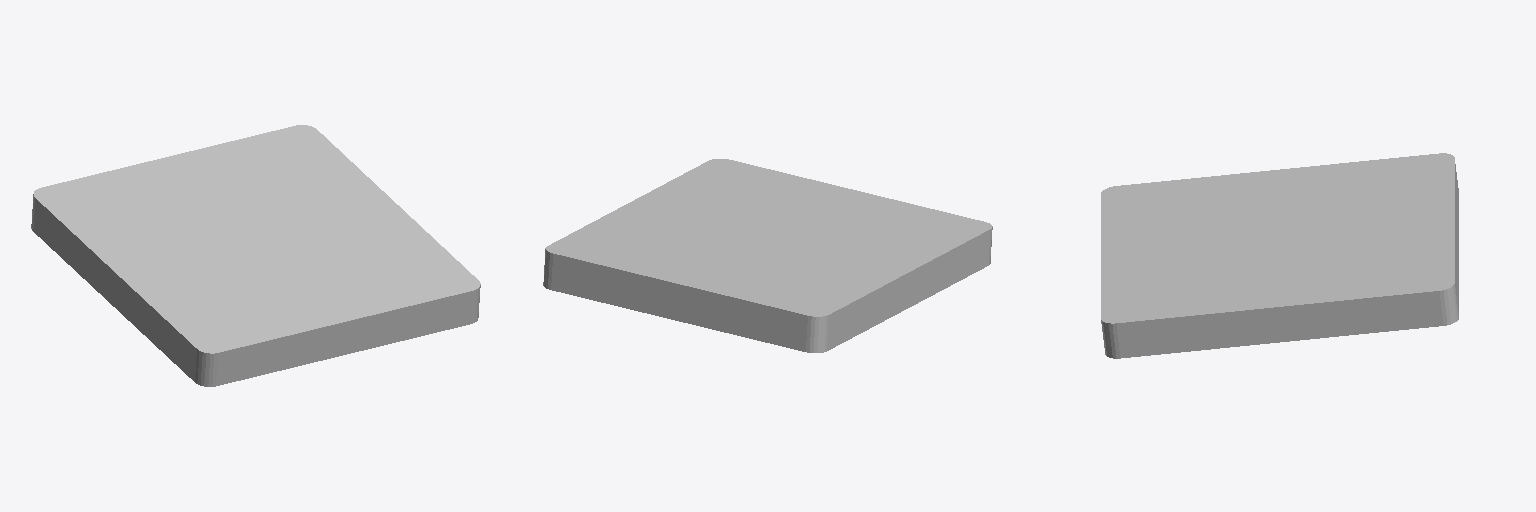
The model's file is original-75.obj.
3 renders of one model, left to right at view 1: azimuth 30°, elevation 25°; view 2: azimuth 150°, elevation 25°; view 3: azimuth 270°, elevation 25°, orthographic.
Visible parts, largest first — view 1: mesh74/mesh74-geometry#mesh74-geometry; view 2: mesh74/mesh74-geometry#mesh74-geometry; view 3: mesh74/mesh74-geometry#mesh74-geometry.
Boxes of the visible parts, x1,y1,x2,y2 form: mesh74/mesh74-geometry#mesh74-geometry: [31, 125, 480, 386]; mesh74/mesh74-geometry#mesh74-geometry: [543, 159, 992, 352]; mesh74/mesh74-geometry#mesh74-geometry: [1101, 153, 1458, 358].
Bounding box in the file's own units: 0.1061 × 0.0255 × 0.1169.